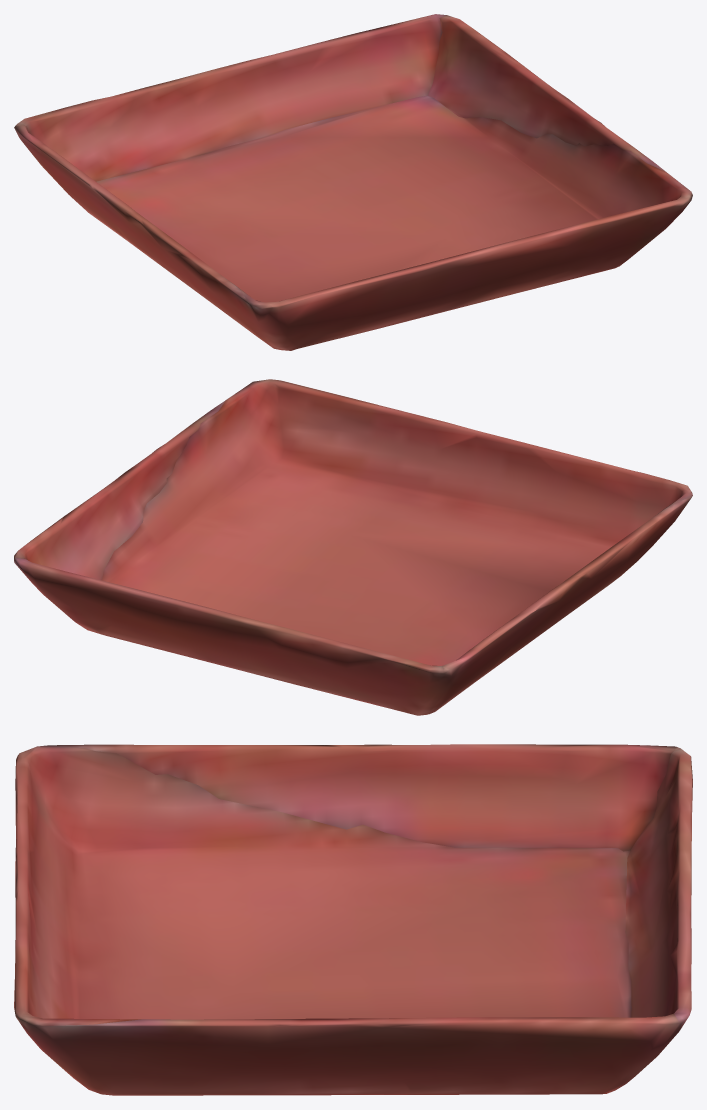
File: Ecoforms_Plant_Saucer_SQ8COR-medium.glb
The picture shows the model from 3 angles, top to bottom: view 1: azimuth 30°, elevation 25°; view 2: azimuth 150°, elevation 25°; view 3: azimuth 270°, elevation 25°; orthographic projection. The views are drawn at different scales.
Visible parts, largest first — view 1: Ecoforms_Plant_Saucer_SQ8COR; view 2: Ecoforms_Plant_Saucer_SQ8COR; view 3: Ecoforms_Plant_Saucer_SQ8COR.
Part boxes in pixels (bbox=[...]): Ecoforms_Plant_Saucer_SQ8COR: bbox=[14, 14, 692, 350]; Ecoforms_Plant_Saucer_SQ8COR: bbox=[14, 379, 692, 715]; Ecoforms_Plant_Saucer_SQ8COR: bbox=[14, 744, 692, 1095].
Size of the model in its own units: 0.1807 by 0.0332 by 0.1805.
Materials: 1 (1 with a texture image).
